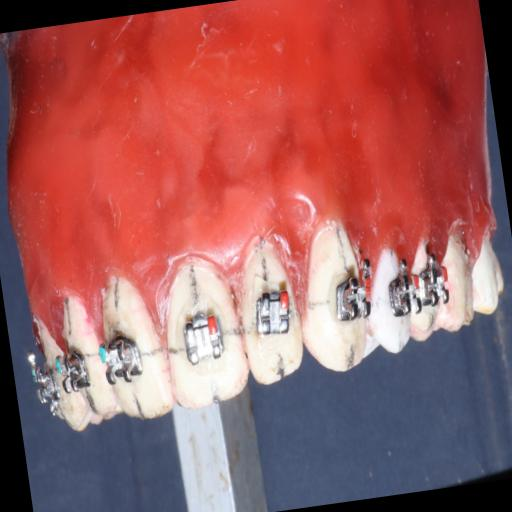incorrect_brace: (230, 233, 310, 389), (181, 306, 228, 366), (253, 284, 296, 340)
